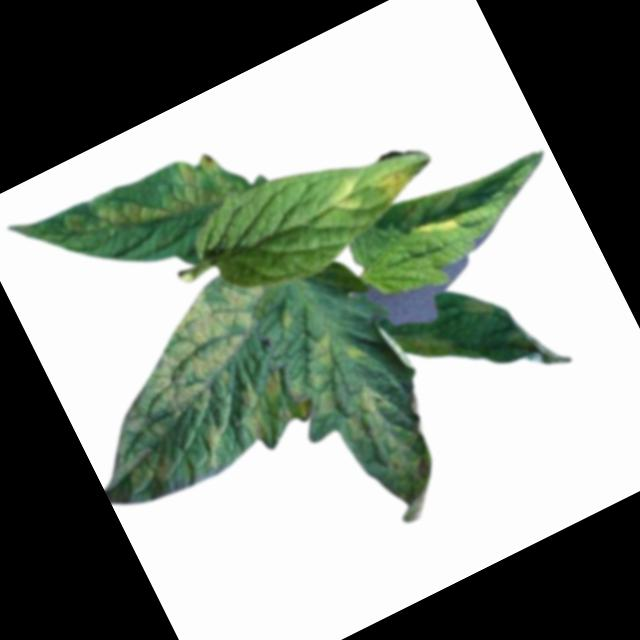Leaf_Mold: (44, 262, 325, 518), (269, 305, 470, 546), (55, 139, 235, 271), (363, 160, 416, 209), (322, 169, 372, 217), (413, 212, 461, 248), (454, 287, 497, 327)
